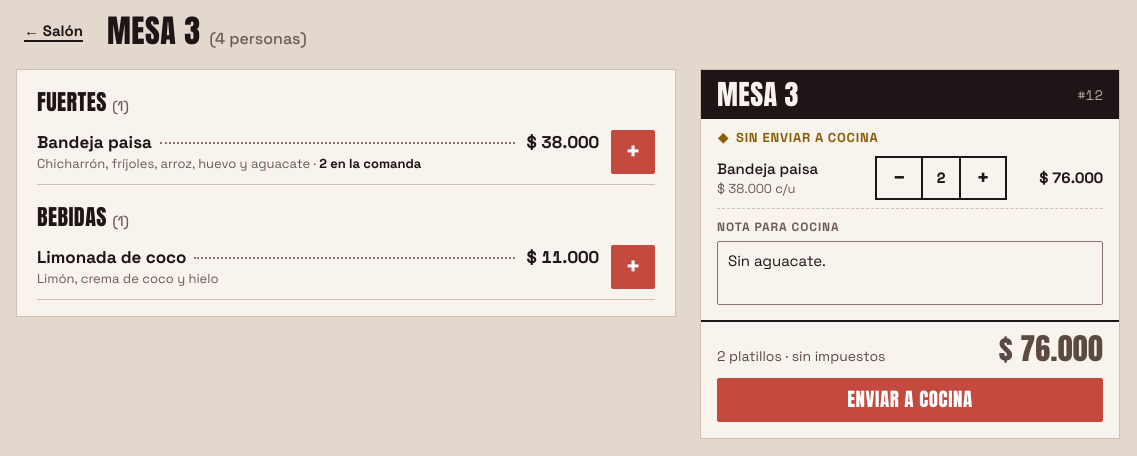
TomaPedido › un 503 al agregar reemplaza la carta y dice que la comanda se conserva
Click the button named "Agregar Bandeja paisa".
click(633, 152)  # box [611, 130, 655, 174]
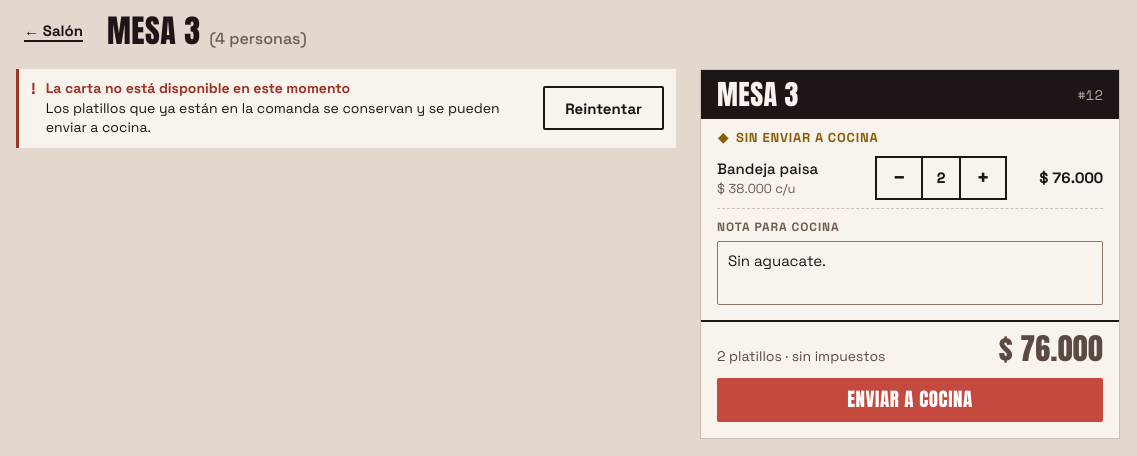
Expected: the element named "Cantidad de Bandeja paisa" shows "2", [937, 166, 946, 188]
Expected: the text "La carta no está disponible en este momento" is shown, [46, 79, 350, 97]
Expected: the text "Los platillos que ya están en la comanda se conservan y se pueden enviar a cocina." is shown, [46, 99, 500, 136]
